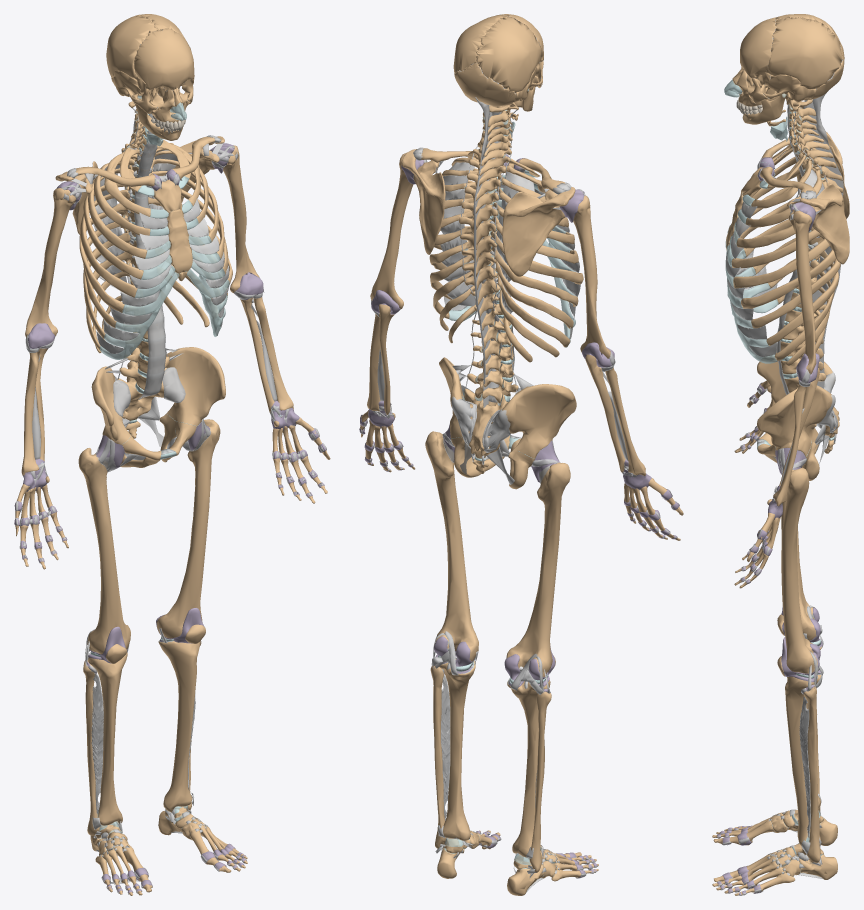
The model's file is arthrology.glb.
3 views of the same model, side by side, from view 1: azimuth 30°, elevation 25°; view 2: azimuth 150°, elevation 25°; view 3: azimuth 270°, elevation 25° (orthographic). The views are drawn at different scales.
Visible parts, largest first — view 1: Object_10, Object_26, Object_25, Object_22, Object_13, Object_27, Object_9, Object_12, Object_46, Object_81, Object_7, Object_75 (+22 smaller); view 2: Object_10, Object_26, Object_25, Object_13, Object_9, Object_23, Object_35, Object_36, Object_37, Object_7, Object_21, Object_24 (+29 smaller); view 3: Object_10, Object_11, Object_26, Object_13, Object_27, Object_25, Object_22, Object_19, Object_83, Object_18, Object_45, Object_21 (+33 smaller).
Boxes of the visible parts, x1,y1,x2,y2 form: Object_10: [25, 86, 279, 835]; Object_26: [91, 297, 274, 890]; Object_25: [21, 233, 234, 889]; Object_22: [83, 28, 247, 859]; Object_13: [15, 136, 330, 892]; Object_27: [159, 347, 225, 462]; Object_9: [20, 15, 321, 888]; Object_12: [15, 78, 321, 885]; Object_46: [100, 185, 179, 359]; Object_81: [96, 212, 171, 353]; Object_7: [14, 272, 318, 890]; Object_75: [27, 113, 262, 673]; Object_10: [370, 152, 610, 872]; Object_26: [379, 304, 593, 870]; Object_25: [430, 255, 645, 859]; Object_13: [361, 148, 683, 895]; Object_9: [366, 16, 674, 872]; Object_23: [502, 187, 575, 276]; Object_35: [460, 105, 513, 374]; Object_36: [459, 116, 512, 330]; Object_37: [467, 102, 518, 403]; Object_7: [360, 290, 671, 878]; Object_21: [434, 63, 516, 249]; Object_24: [440, 211, 625, 472]; Object_10: [767, 136, 820, 812]; Object_11: [736, 17, 842, 858]; Object_26: [724, 352, 834, 892]; Object_13: [713, 138, 837, 893]; Object_27: [757, 385, 832, 480]; Object_25: [721, 251, 838, 884]; Object_22: [734, 17, 789, 895]; Object_19: [731, 91, 820, 866]; Object_83: [726, 202, 777, 356]; Object_18: [763, 74, 834, 360]; Object_45: [725, 180, 777, 363]; Object_21: [741, 43, 844, 308].
Bounding box in the file's own units: 0.6693 × 1.7 × 0.2501.
